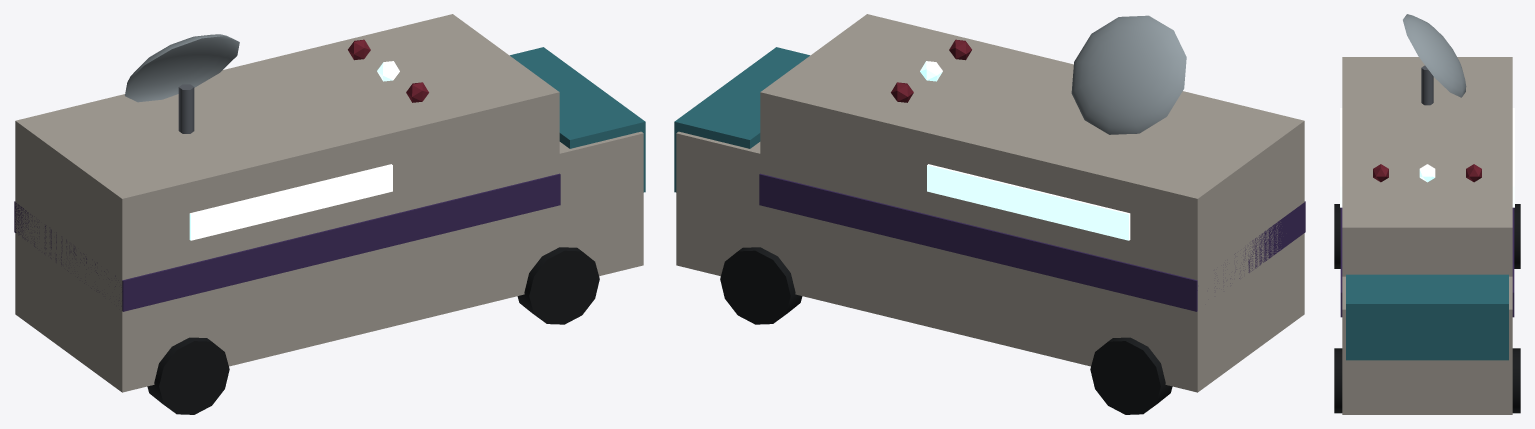
The model's file is tv_van.glb.
3 views of the same model, side by side, from view 1: azimuth 30°, elevation 25°; view 2: azimuth 150°, elevation 25°; view 3: azimuth 270°, elevation 25° (orthographic). The views are drawn at different scales.
Parts seen in each view (by area): view 1: tv_van; view 2: tv_van; view 3: tv_van.
Part boxes in pixels (box(x1,y1,x2,y2)): tv_van: box(14, 14, 645, 414); tv_van: box(674, 14, 1305, 414); tv_van: box(1334, 14, 1520, 414).
Size of the model in its own units: 6.25 by 3.78 by 2.4.
